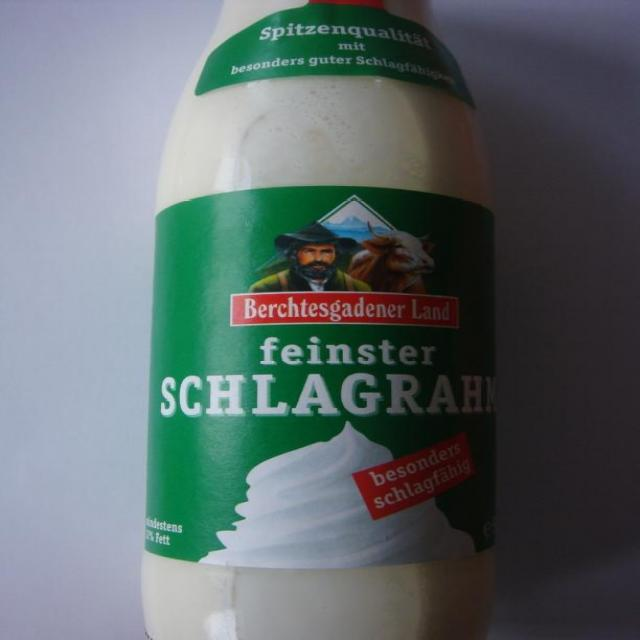Cream: (142, 0, 495, 640)
